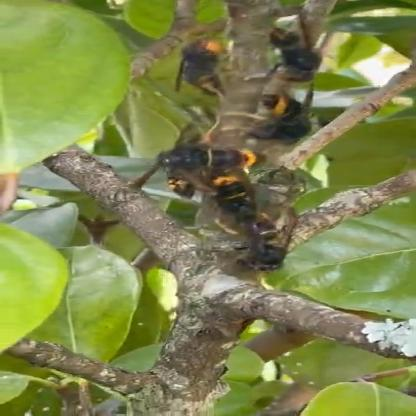bee: (118, 132, 325, 270), (262, 6, 340, 149), (164, 19, 235, 116)
